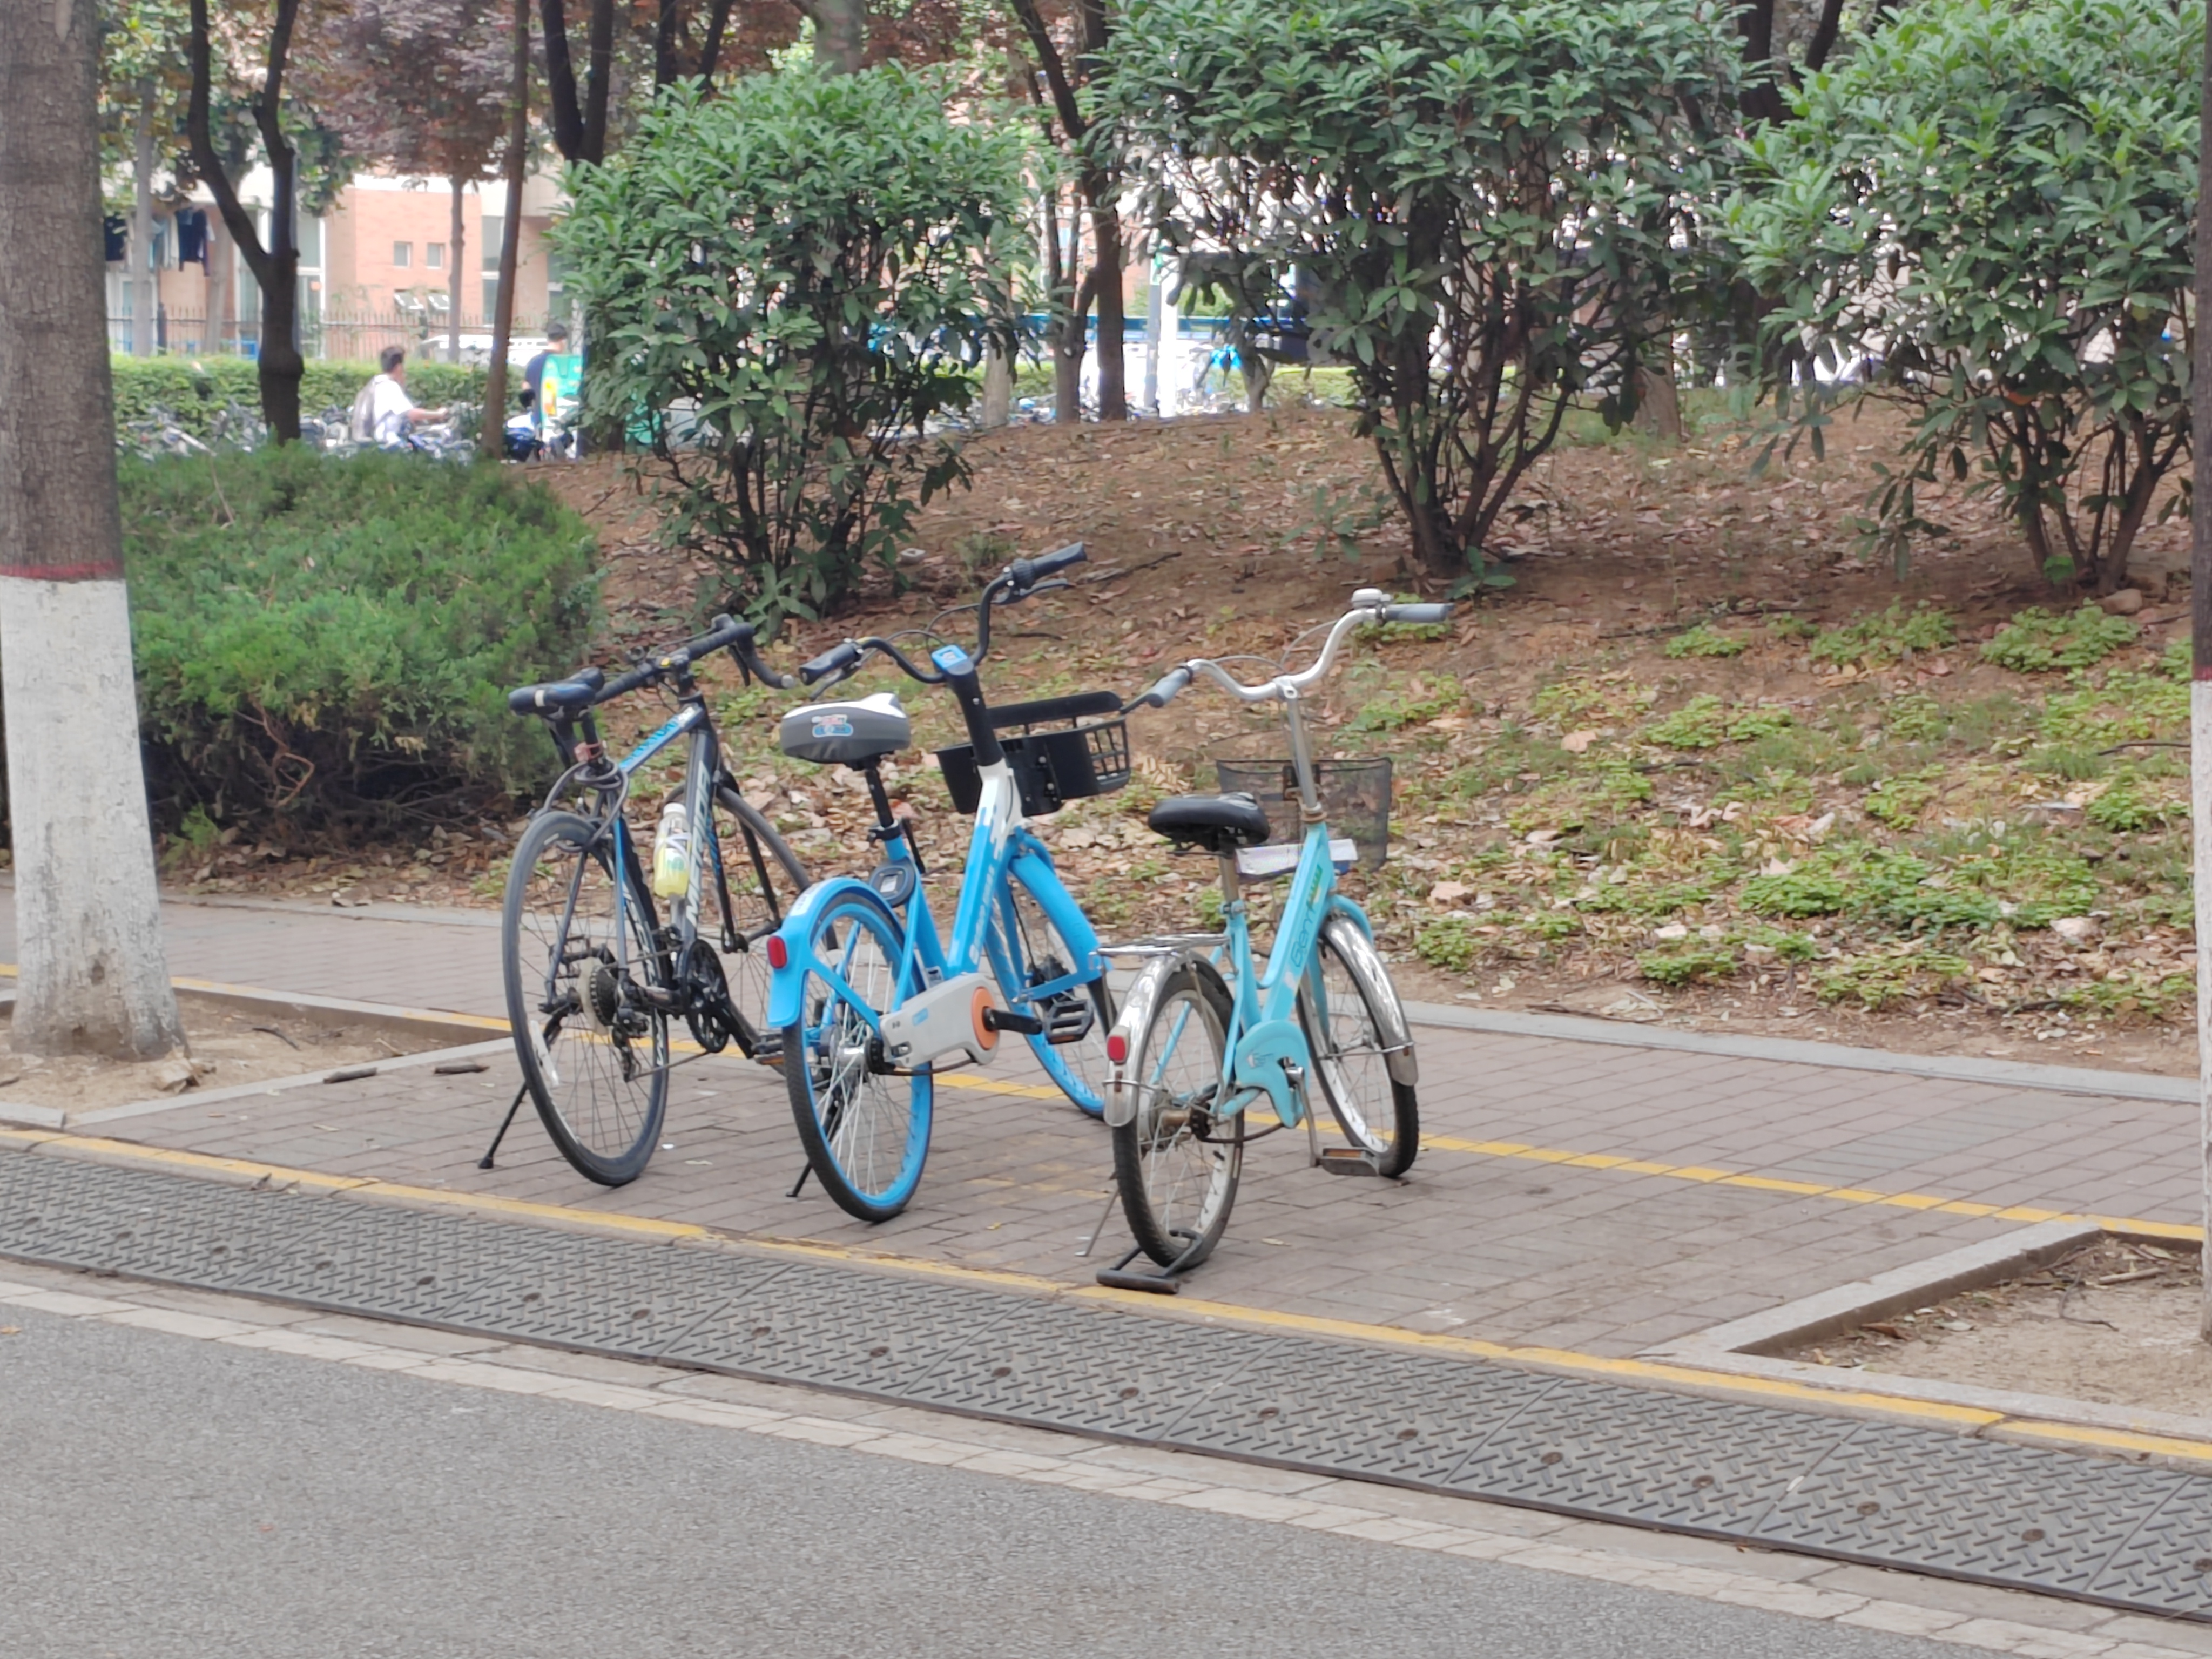others: (1123, 627, 1442, 1307), (449, 589, 770, 1204)
shared_bike_haluo: (773, 573, 1111, 1213)
